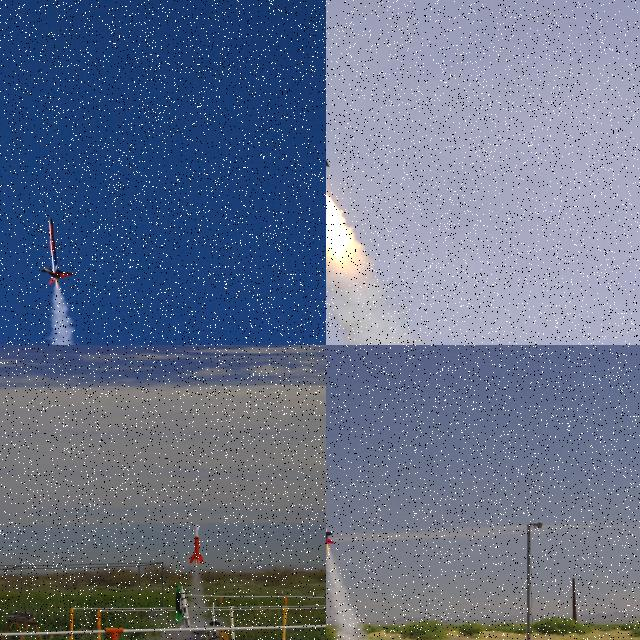Rocket: (42, 216, 74, 285), (179, 586, 196, 629), (189, 524, 204, 564), (326, 488, 334, 544), (209, 600, 221, 627)
